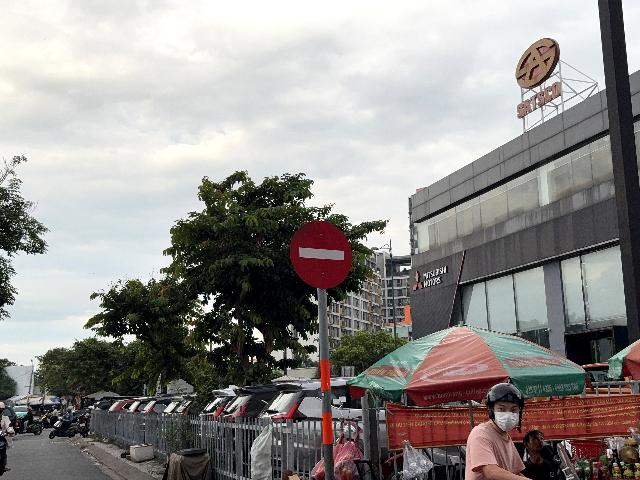cam-di-nguoc-chieu: (290, 220, 353, 290)
